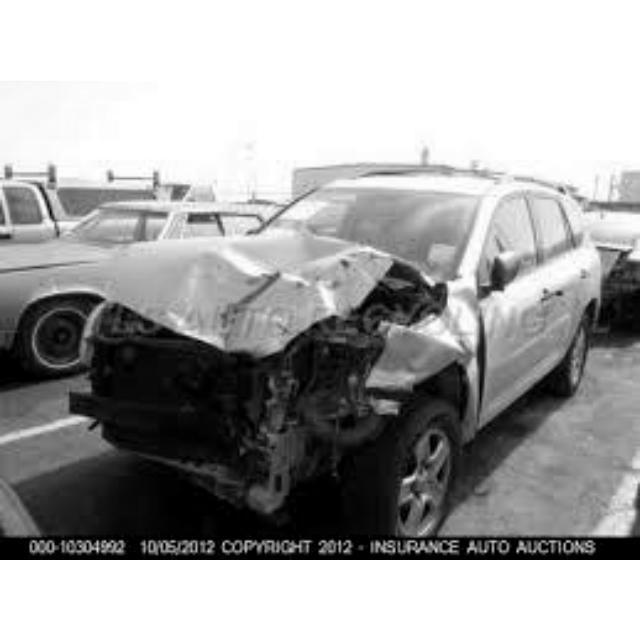bonnet-dent: (124, 231, 368, 332)
fender-dent: (379, 313, 480, 406)
front-bumper-dent: (122, 345, 309, 466)
